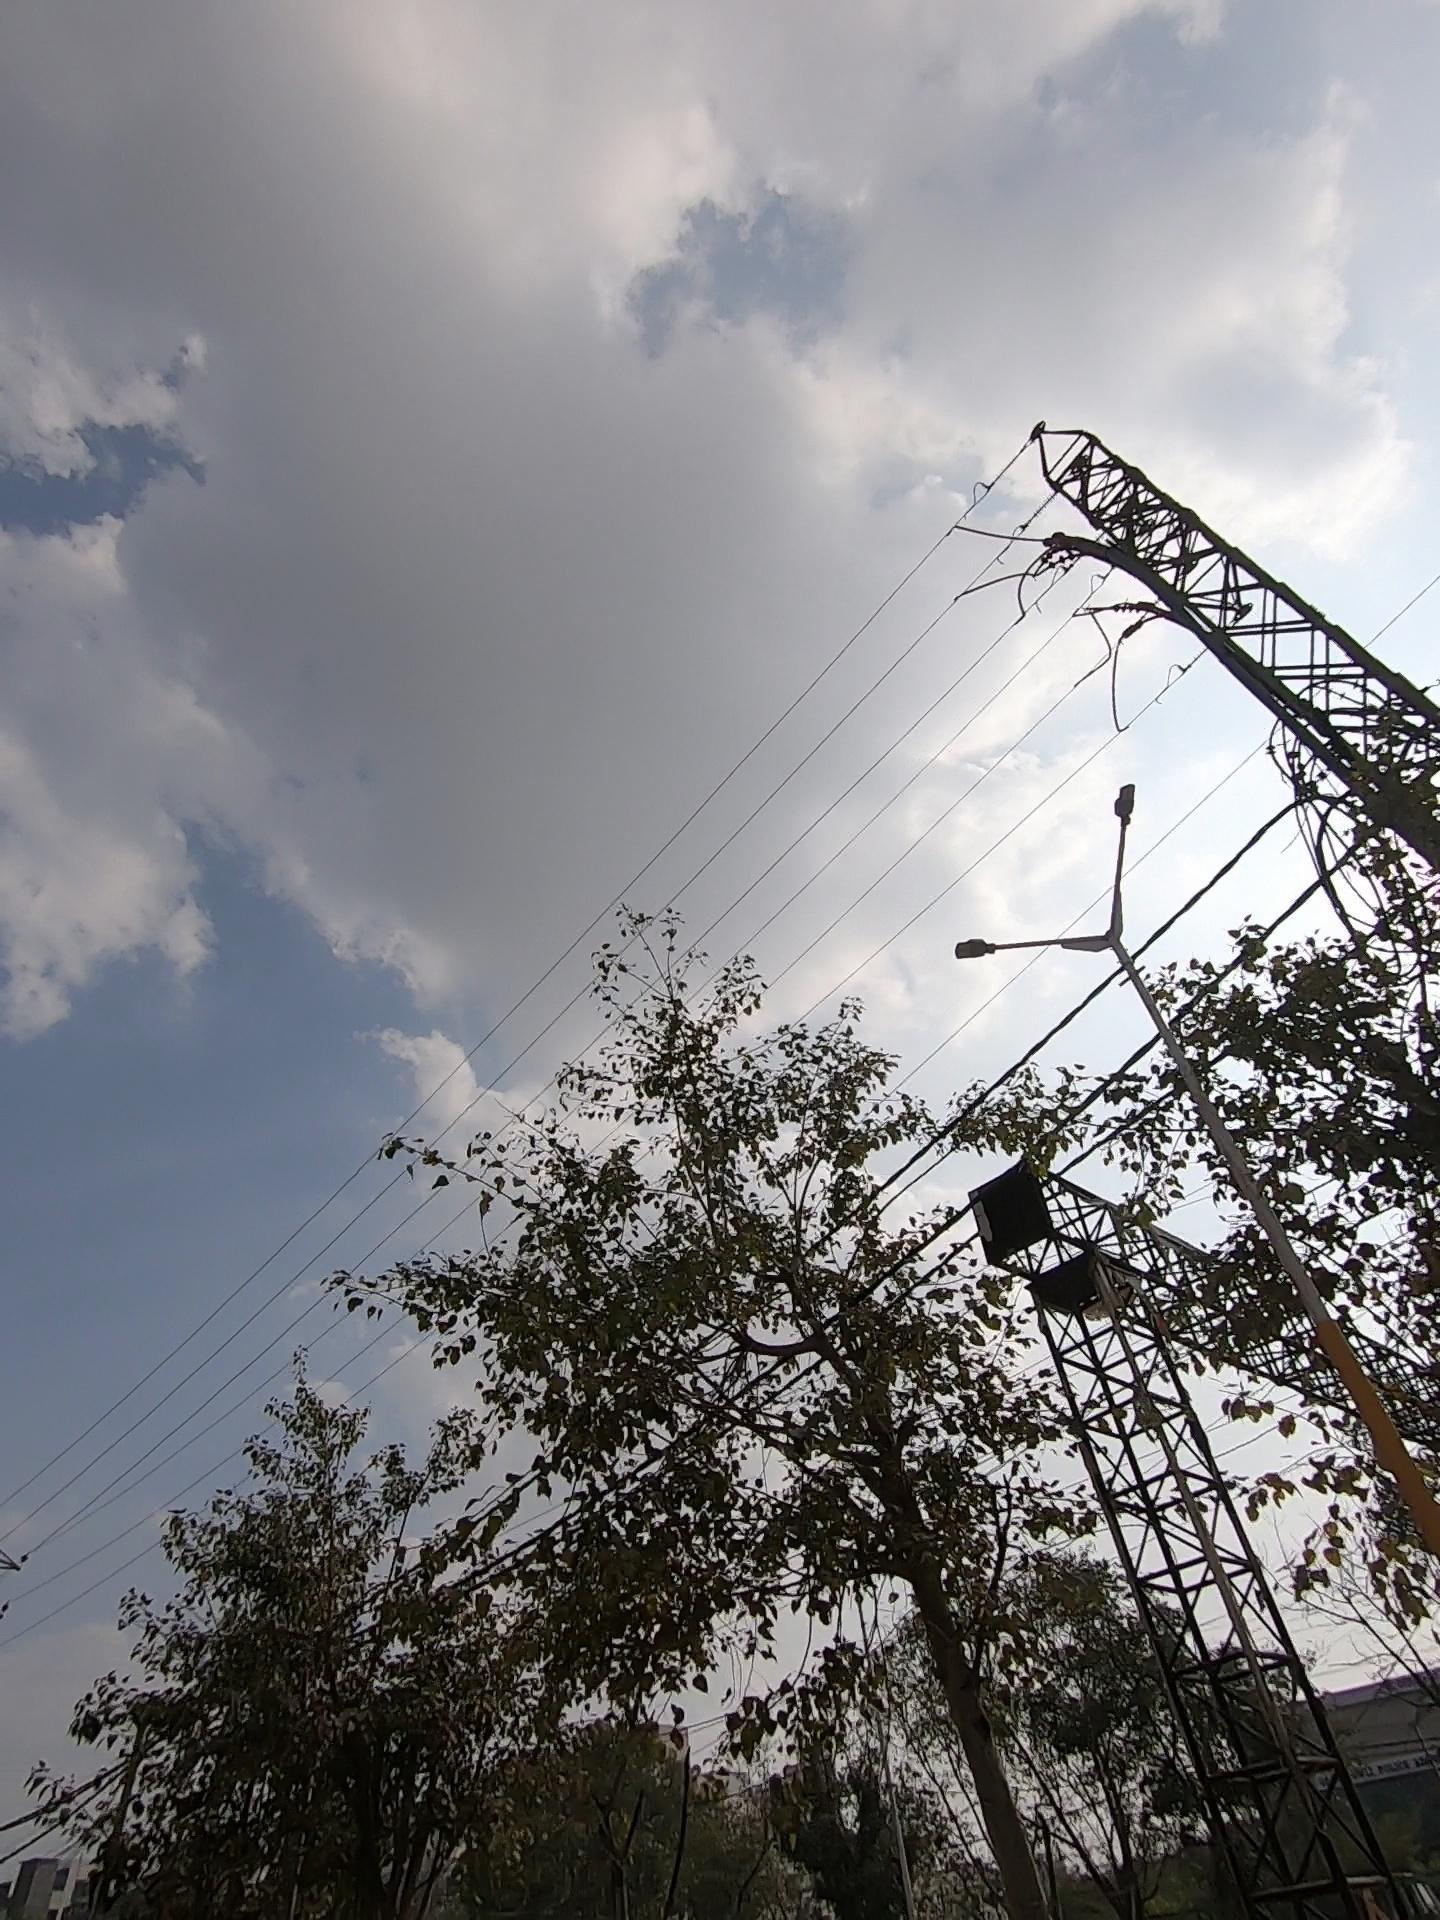off: (861, 756, 1219, 1031)
